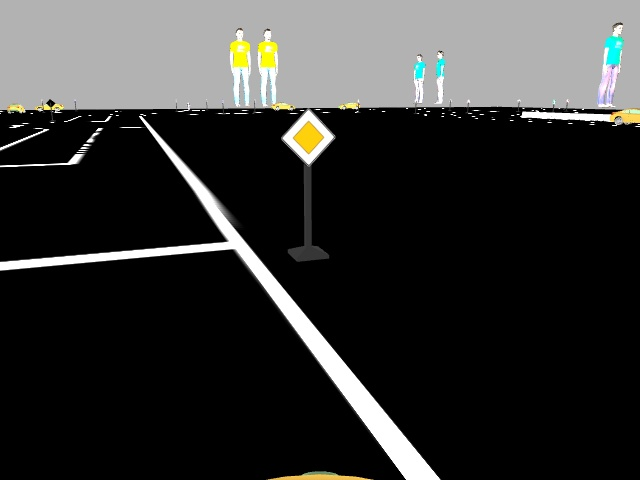Priority: (281, 108, 333, 168)
